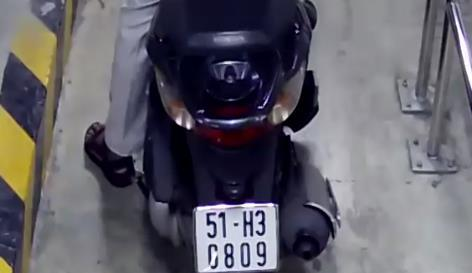lisence: (191, 203, 281, 273)
